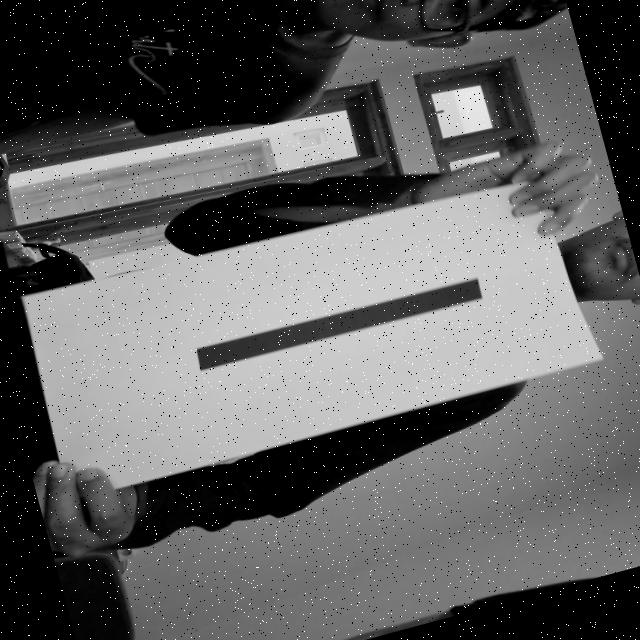i: (163, 262, 498, 393)
